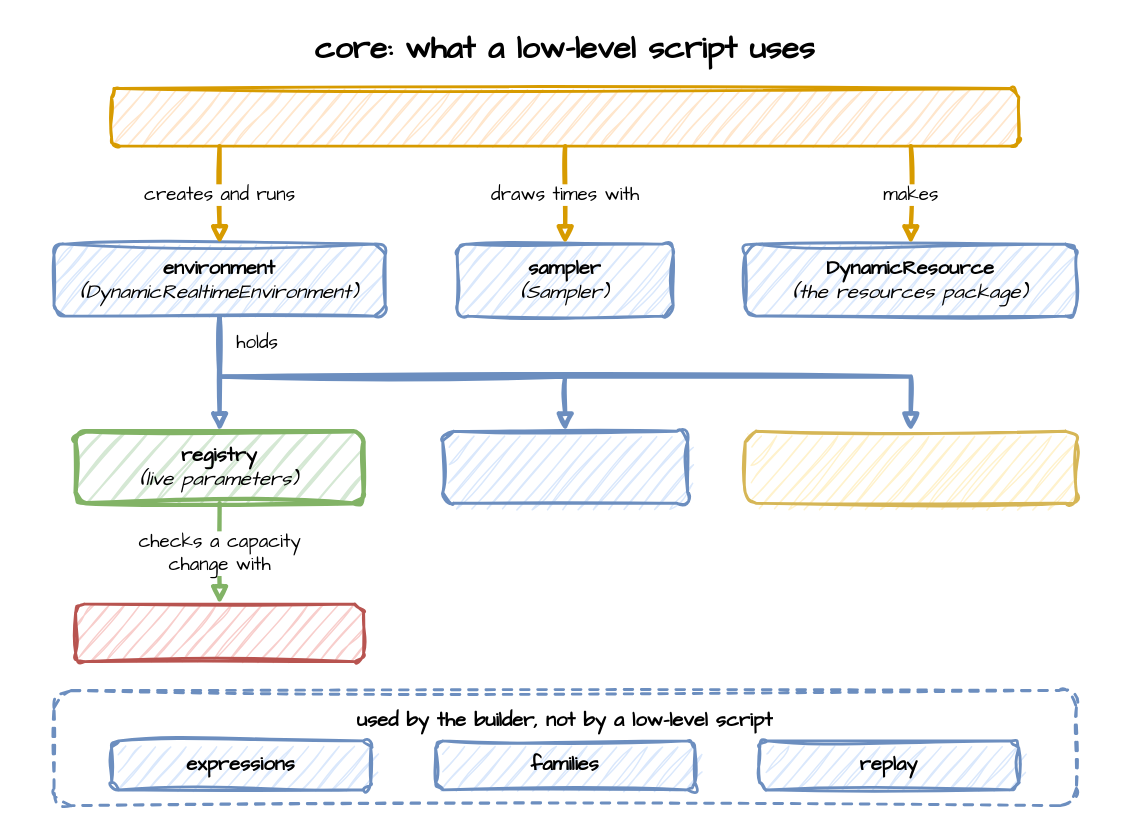
This 1129x831 diagram has some shape labels left out. Here are the shapes that lost their labels. From the top down, the centre of each, then its label:
the point at 564,116: a low-level script
the point at 564,466: statistics (measures)
the point at 910,466: sinks (one Sink for each egress)
the point at 218,632: rules
